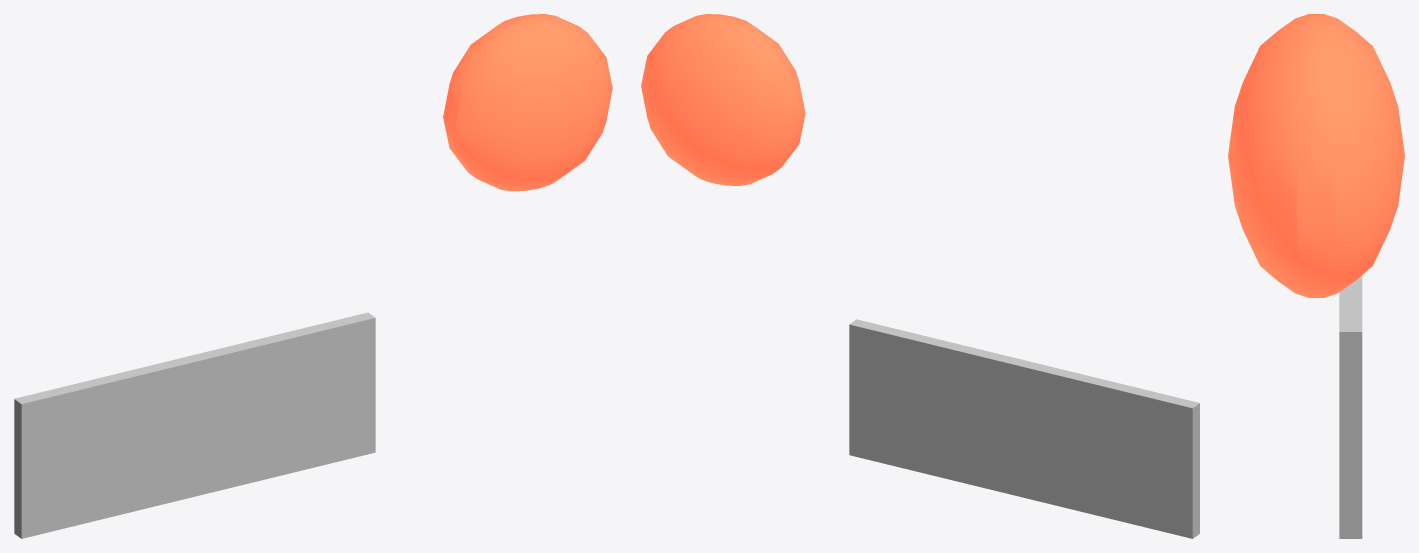
Rendered from WorkerHand_LimiterLedRed.fbx.
The picture shows the model from 3 angles, left to right: view 1: azimuth 30°, elevation 25°; view 2: azimuth 150°, elevation 25°; view 3: azimuth 270°, elevation 25°; orthographic projection. The views are drawn at different scales.
Parts seen in each view (by area): view 1: Hand_LimiterBypassTag, Hand_LimiterLedRed; view 2: Hand_LimiterBypassTag, Hand_LimiterLedRed; view 3: Hand_LimiterLedRed, Hand_LimiterBypassTag.
Boxes of the visible parts, x1=… form: Hand_LimiterBypassTag: x1=14, y1=312, x2=375, y2=538; Hand_LimiterLedRed: x1=443, y1=14, x2=612, y2=191; Hand_LimiterBypassTag: x1=849, y1=319, x2=1199, y2=538; Hand_LimiterLedRed: x1=641, y1=14, x2=805, y2=185; Hand_LimiterLedRed: x1=1228, y1=14, x2=1404, y2=297; Hand_LimiterBypassTag: x1=1339, y1=275, x2=1362, y2=538.
Size of the model in its own units: 0.0179 by 0.012 by 0.0031.
